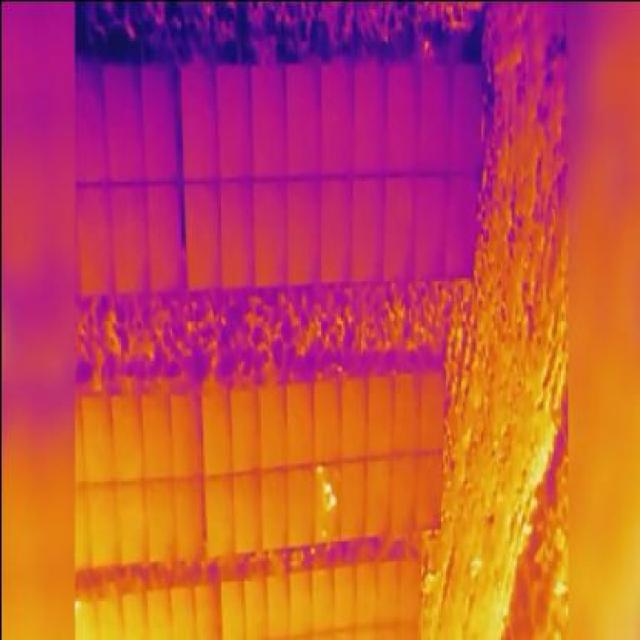hotspot: (320, 475, 329, 491), (326, 493, 336, 505), (316, 463, 322, 472)
